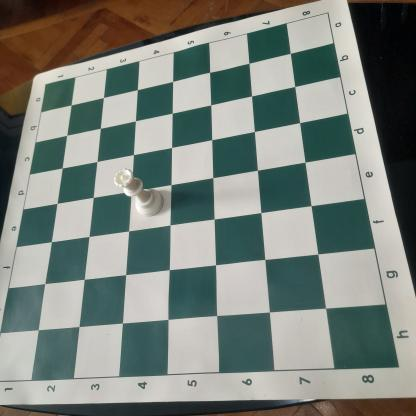white-queen: (112, 167, 164, 218)
